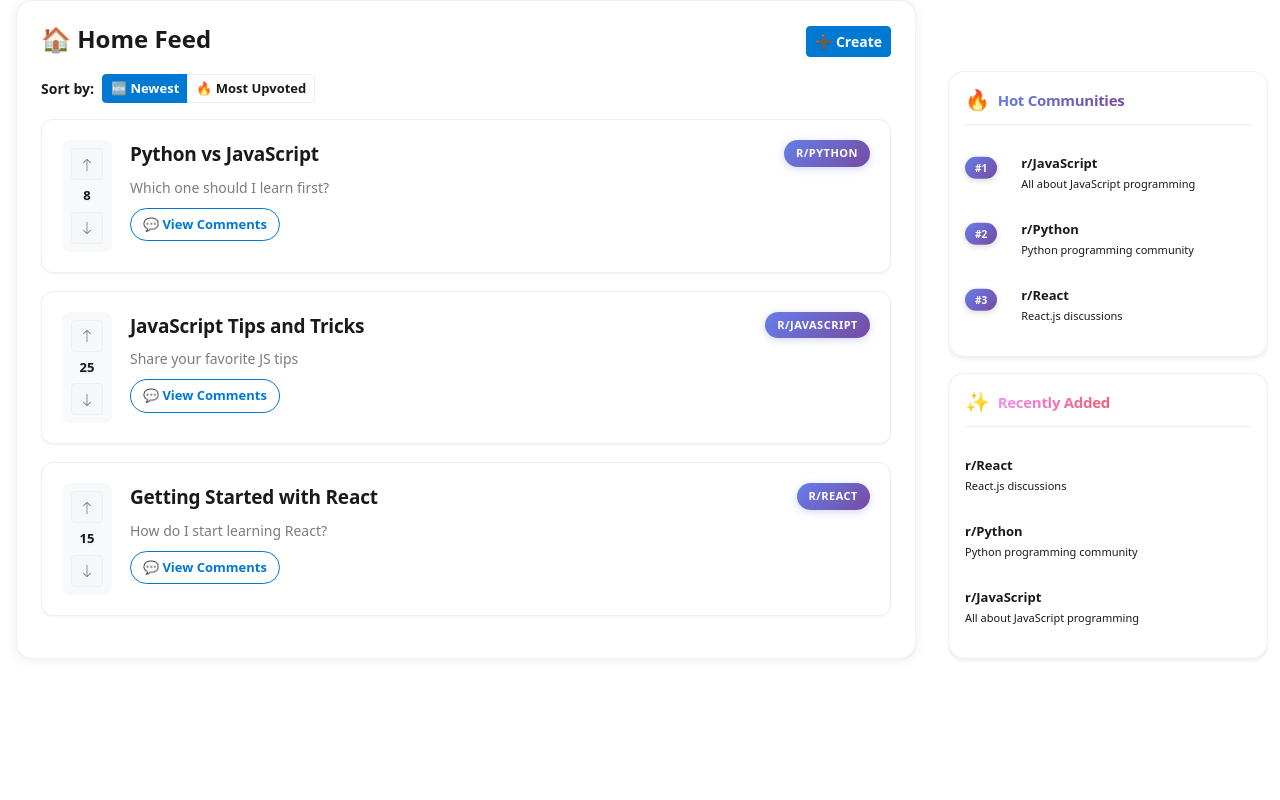
Scenario: Thread UI workflow › creates a thread in the selected community and places it at the top
Expected: the heading "Getting Started with React" is shown, [130, 483, 378, 512]
Click the button "➕ Create". click: (849, 41)
box: [806, 26, 891, 57]
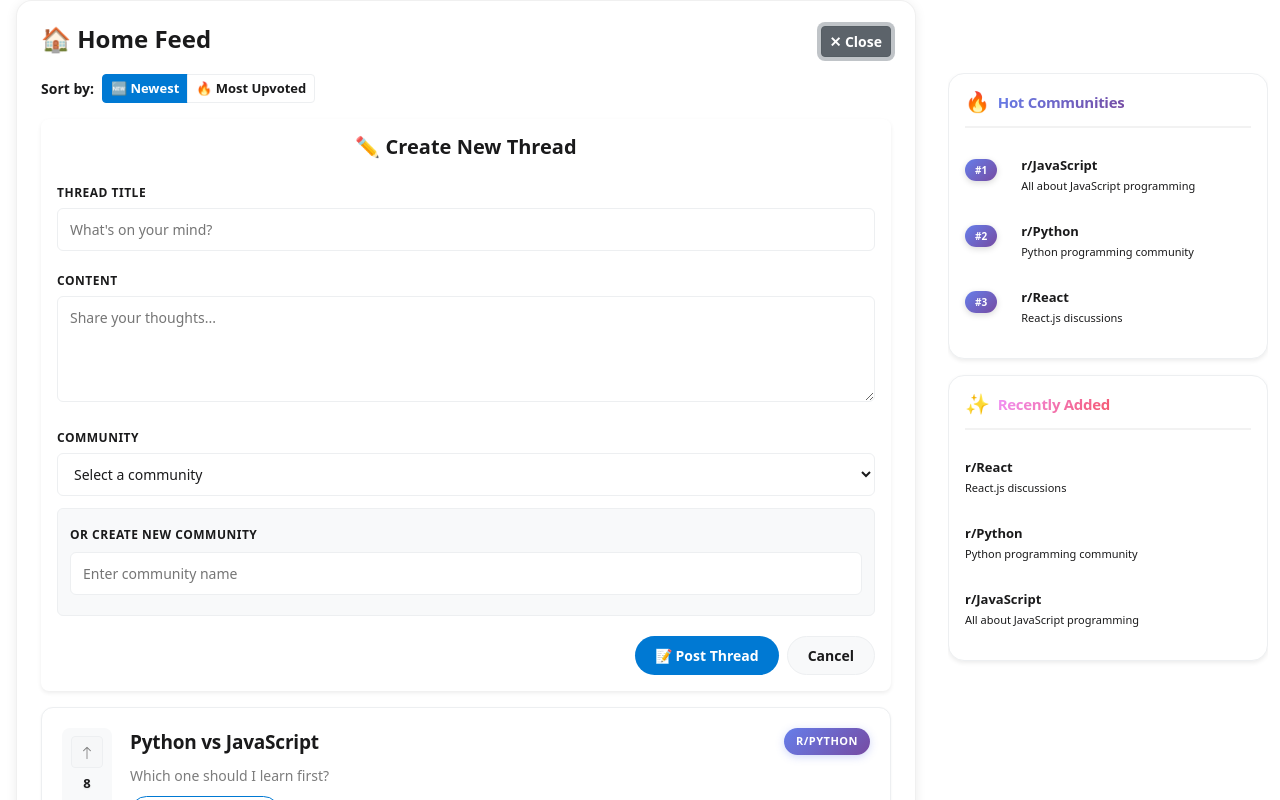
Type "A new integration thread" into the field with placeholder "What's on your mind?". click: (466, 230)
box: [57, 208, 875, 251]
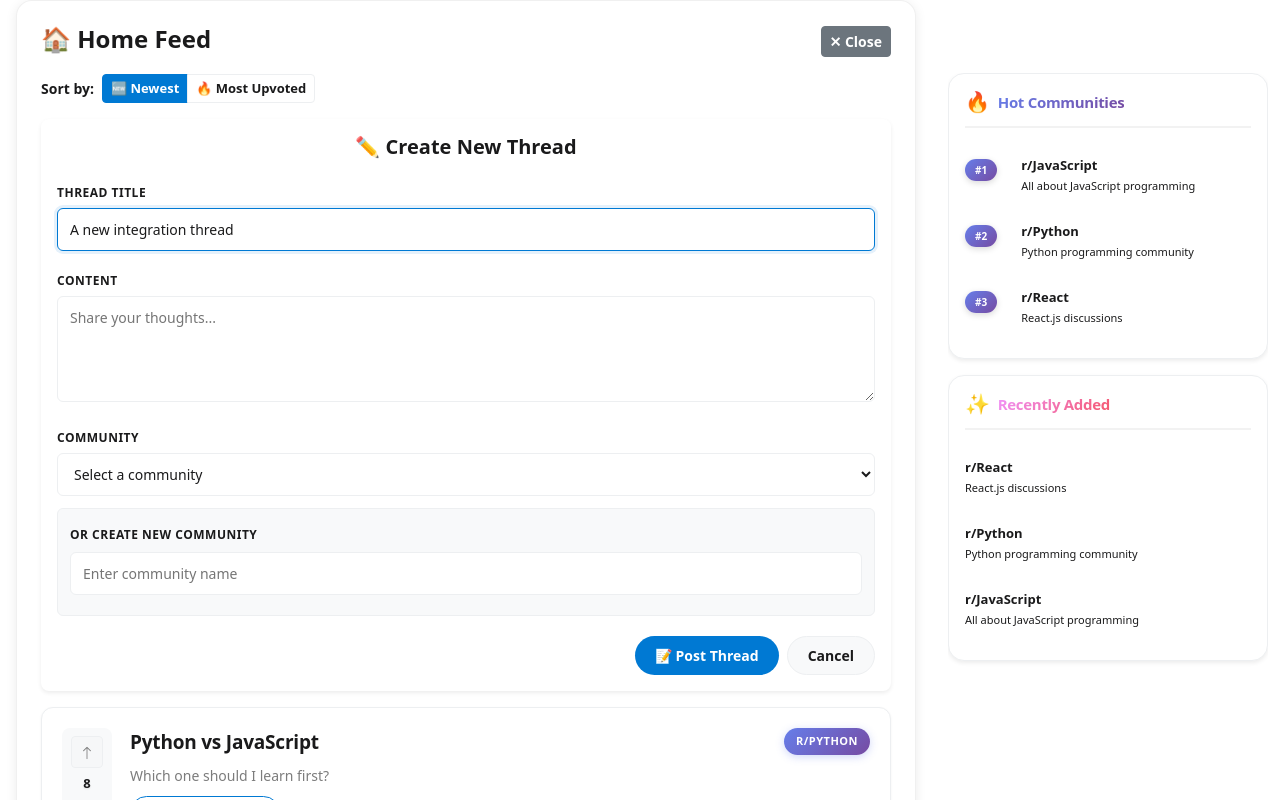
Type "Created from the UI test" into the text box with placeholder "Share your thoughts...". click: (466, 349)
box: [57, 296, 875, 402]
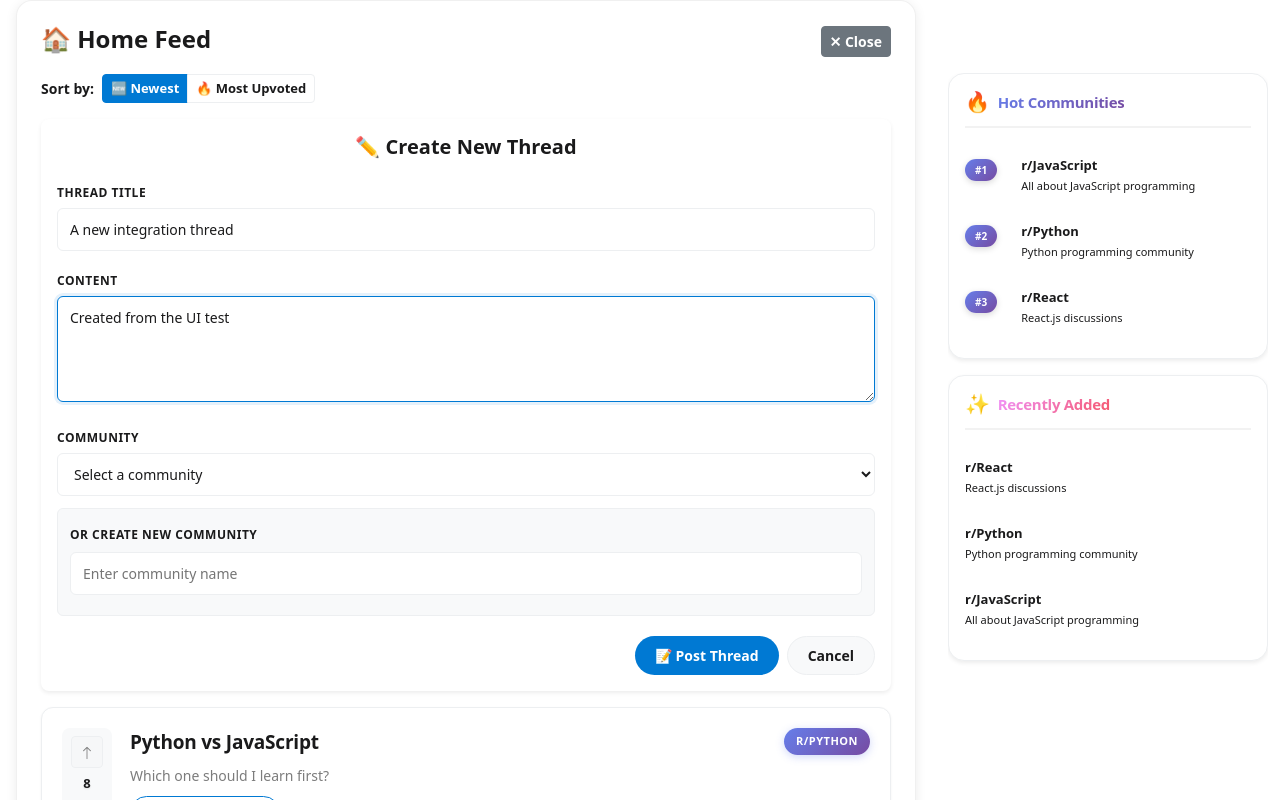
Select "r/JavaScript" in the dropdown. click: (466, 475)
box: [57, 453, 875, 496]
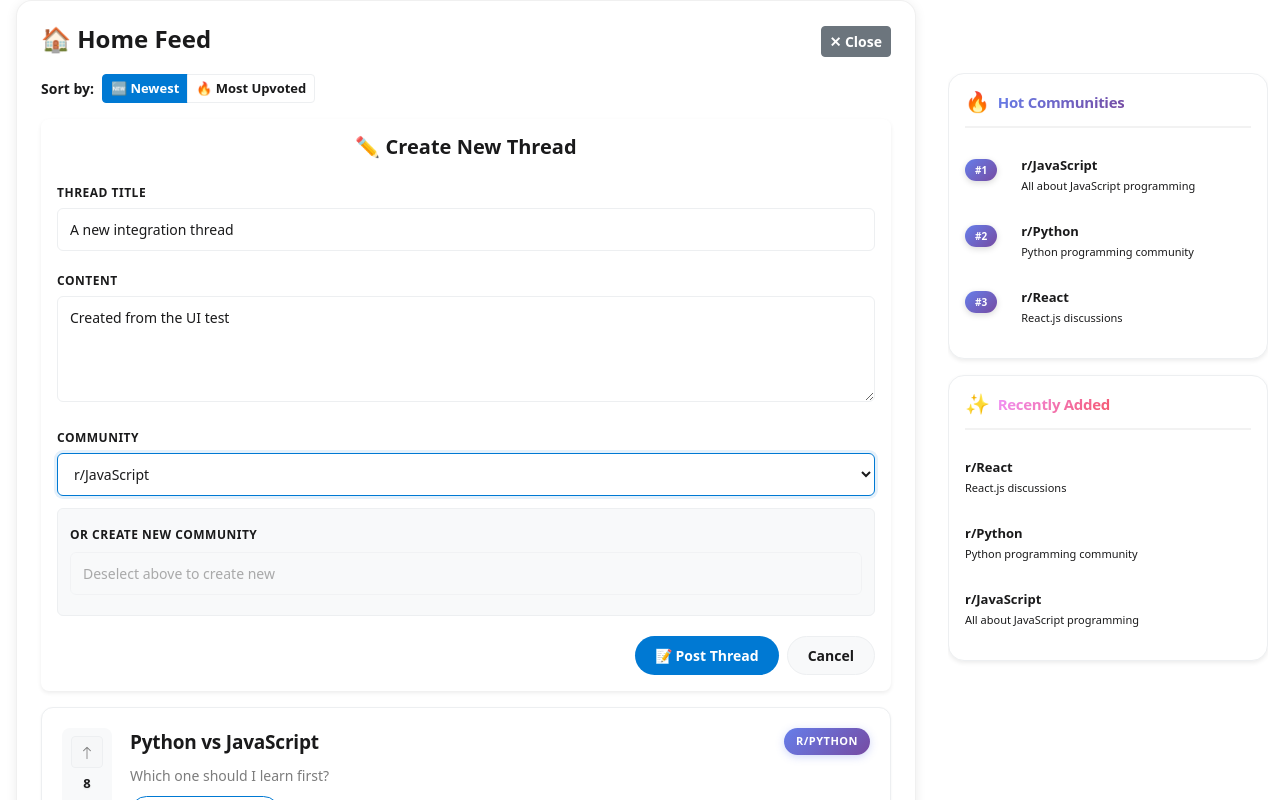
Click the button "📝 Post Thread". click: (707, 656)
box: [635, 636, 779, 675]
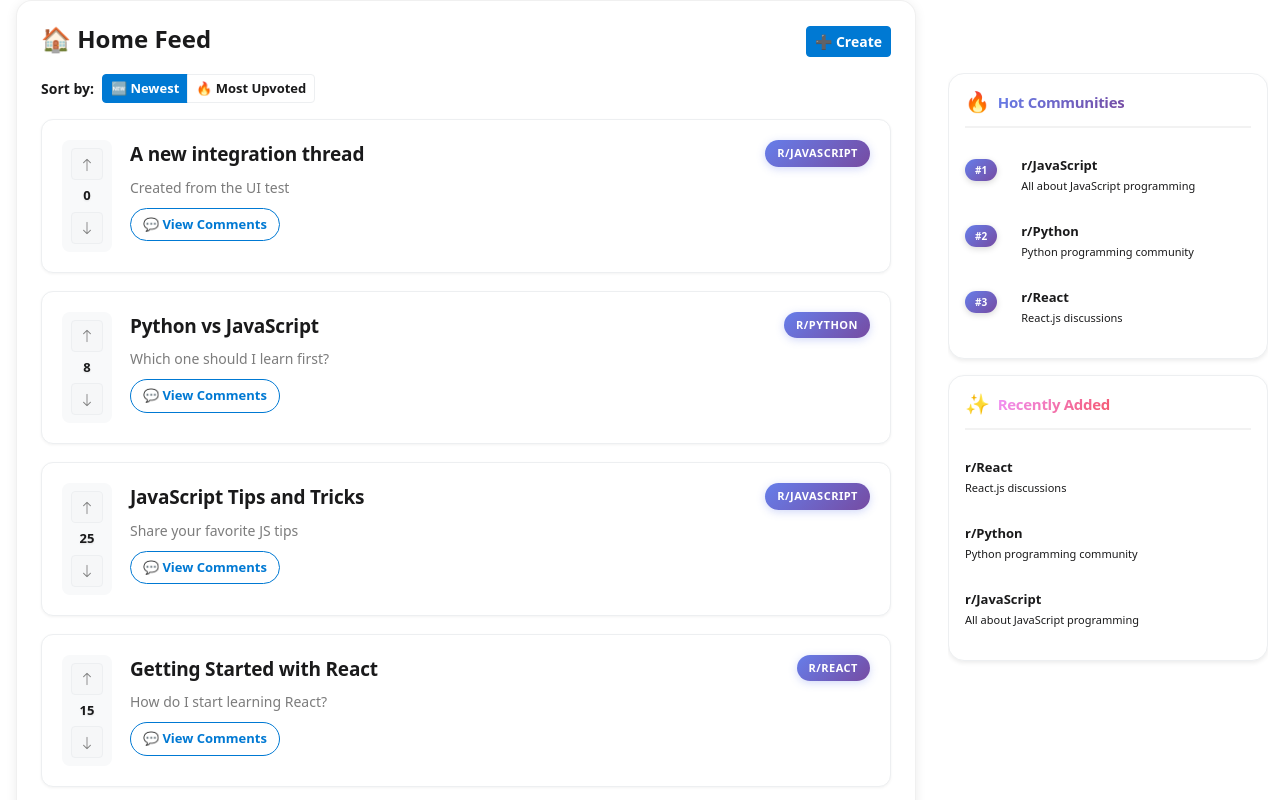
Now the heading "A new integration thread" is shown, box [130, 140, 364, 169]
Now the text "Created from the UI test" is shown, box [130, 178, 289, 197]
